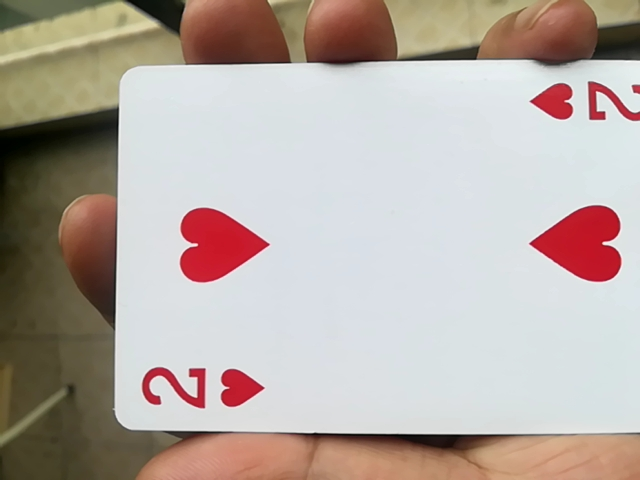hx 2: (76, 68, 636, 455)
